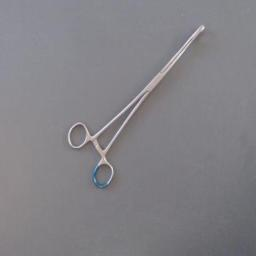Sponge Forceps: (60, 18, 214, 194)
